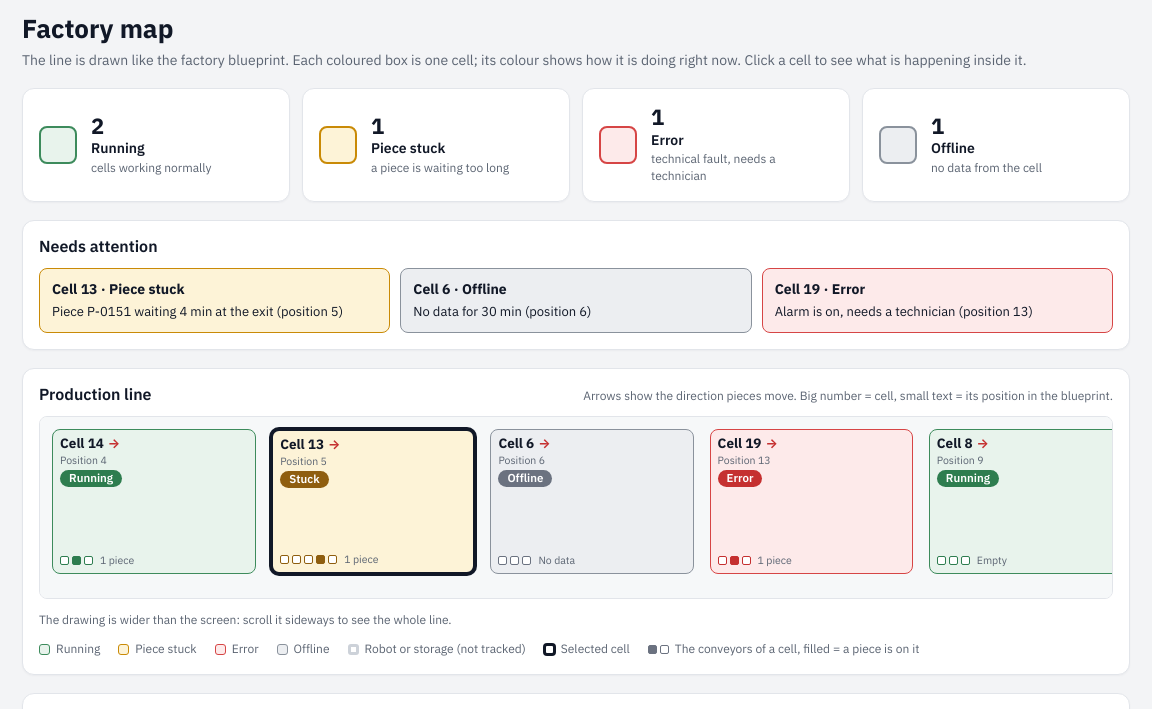
FactoryMap › warns that pieces may not be tracked when a conveyor of a running cell has no valid data
What coordinates should you click on to do the following:
click the button with test id "cell-4"
I would click on:
 (154, 502)
Its box is x1=52 y1=430 x2=256 y2=574.
(page scrolled)
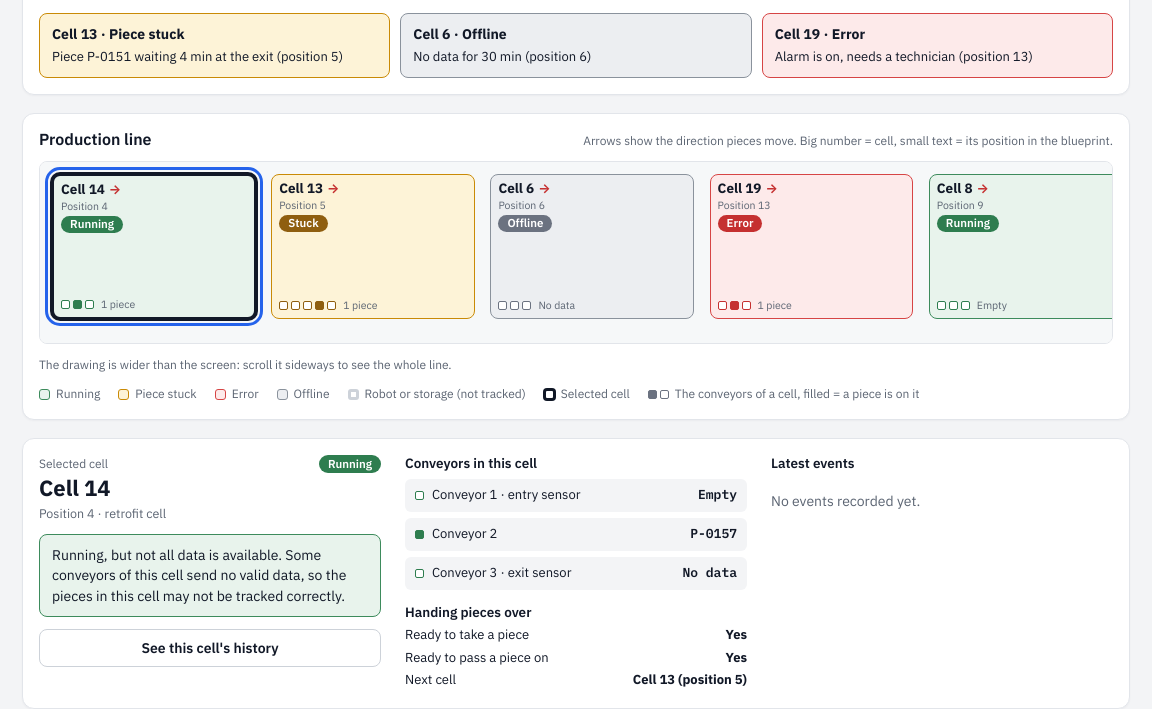
Expected: the element with test id "cell-explanation" does not show "Working normally"
Now the text with test id "cell-explanation" shows "Running, but not all data is available. Some conveyors of this cell send no valid data, so the pieces in this cell may not be tracked correctly.", box x1=52 y1=546 x2=346 y2=605
